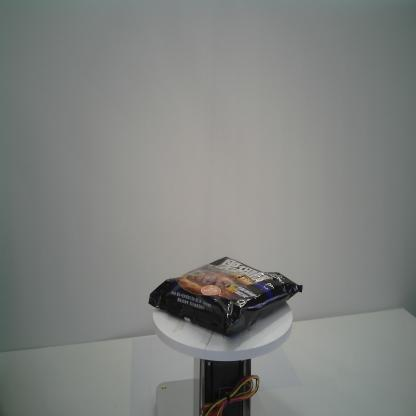Instant Noodles: (148, 255, 303, 335)
